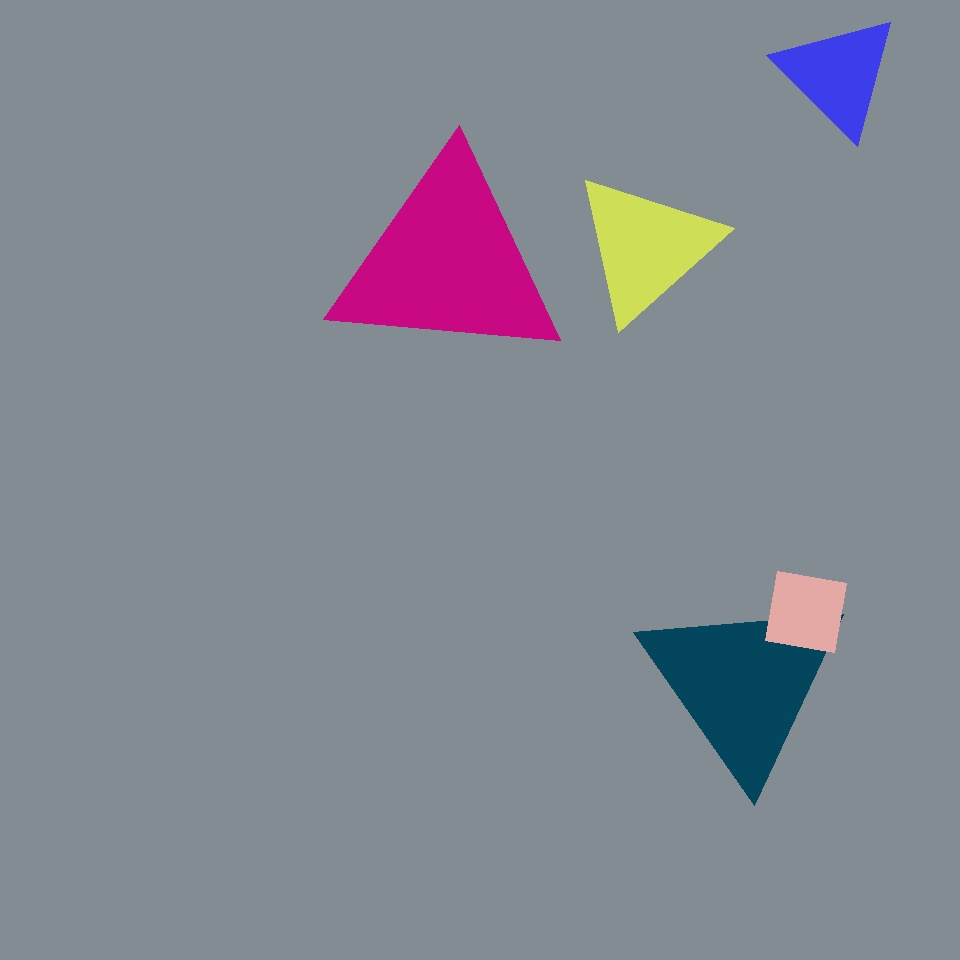circle: (330, 154, 566, 370), (639, 588, 849, 780), (572, 171, 721, 323), (776, 13, 900, 137)
square: (295, 375, 581, 661), (766, 571, 846, 652)
triangle: (594, 492, 957, 855), (571, 264, 827, 519)
